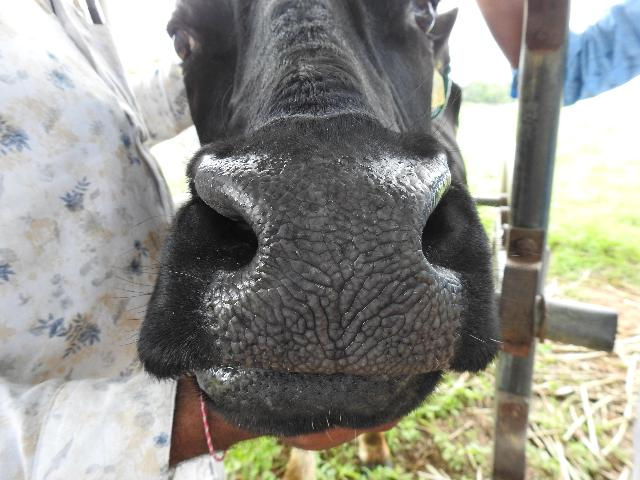Muzzle: (248, 156, 420, 380)
